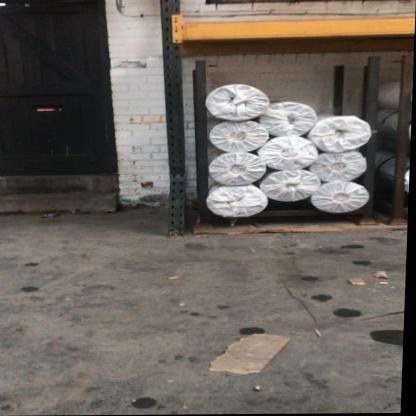vertical_damage: (163, 158, 194, 206)
